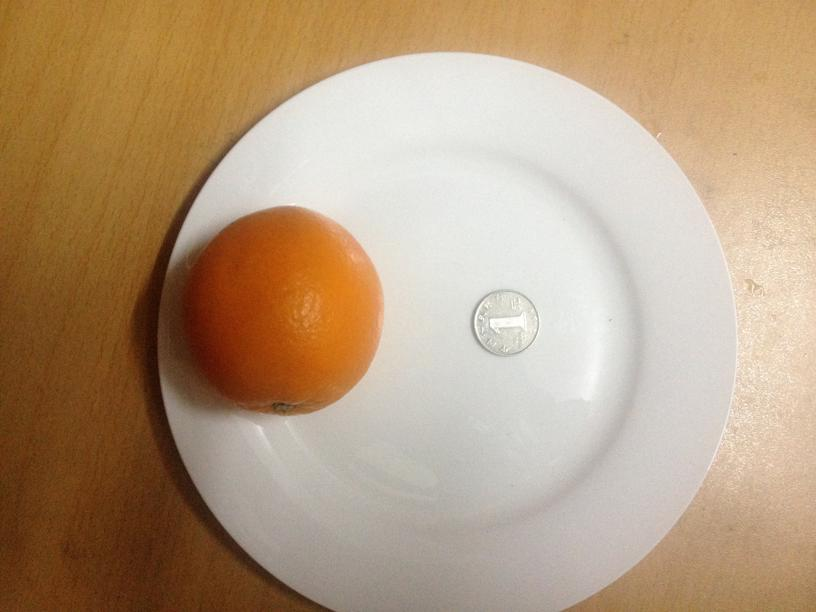coin: (473, 289, 538, 355)
orange: (194, 204, 382, 416)
